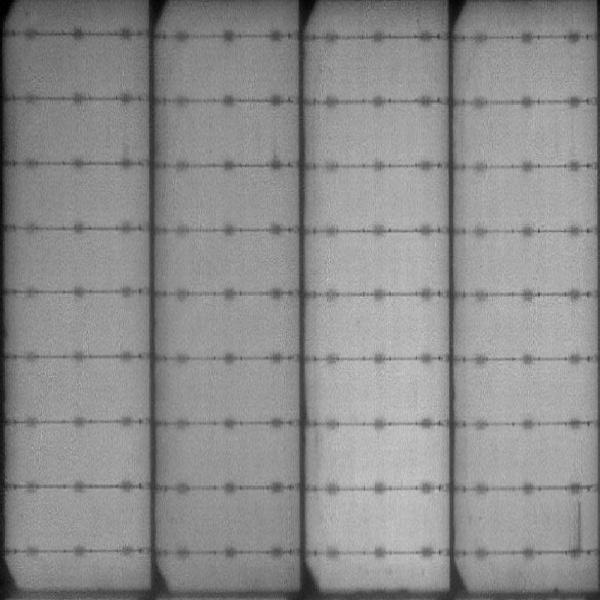scratch: (571, 499, 587, 549)
